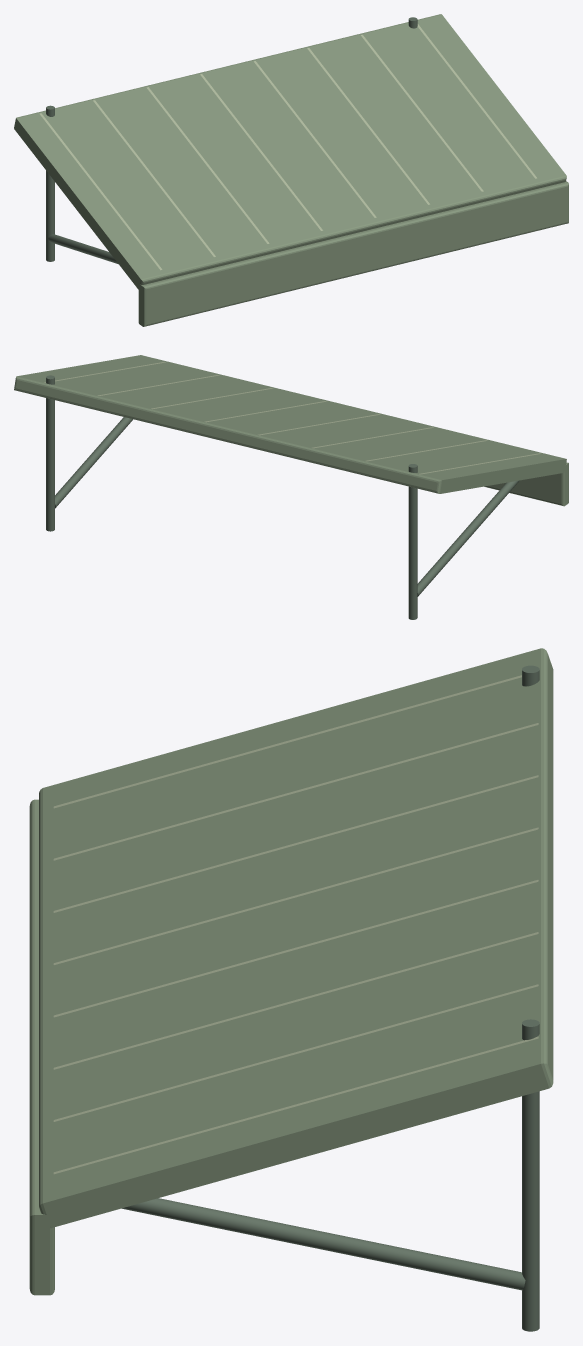
Rendered from awning.glb.
3 renders of one model, top to bottom at view 1: azimuth 30°, elevation 25°; view 2: azimuth 150°, elevation 25°; view 3: azimuth 270°, elevation 25°, orthographic. The views are drawn at different scales.
Visible parts, largest first — view 1: Sage canvas canopy, Scalloped valance, Canvas seam (×8), Wall mount, Support arm; view 2: Sage canvas canopy, Wall mount (×2), Support arm (×2), Scalloped valance; view 3: Sage canvas canopy, Canvas seam (×8), Support arm, Scalloped valance, Wall mount.
Boxes of the visible parts, x1,y1,x2,y2 form: Sage canvas canopy: [14, 14, 566, 289]; Scalloped valance: [138, 181, 568, 326]; Canvas seam (×8): [39, 24, 536, 270]; Wall mount: [46, 105, 54, 261]; Support arm: [48, 234, 118, 264]; Sage canvas canopy: [14, 355, 566, 493]; Wall mount (×2): [46, 375, 417, 619]; Support arm (×2): [55, 417, 519, 596]; Scalloped valance: [484, 462, 568, 506]; Sage canvas canopy: [39, 648, 553, 1227]; Canvas seam (×8): [53, 675, 538, 1174]; Support arm: [122, 1198, 525, 1290]; Scalloped valance: [29, 799, 54, 1295]; Wall mount: [522, 1019, 539, 1331].
Size of the model in its own units: 1.55 by 0.53 by 0.8254.
